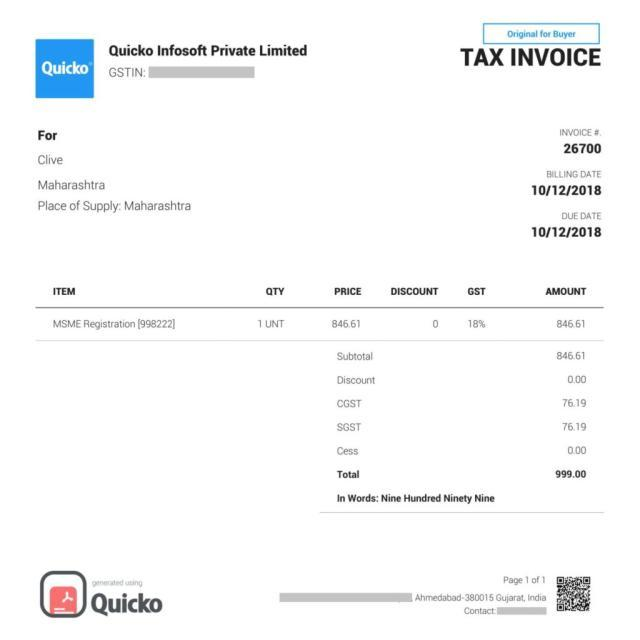ROI: (318, 348, 601, 502), (34, 282, 616, 342), (33, 40, 315, 100), (35, 128, 195, 215), (414, 566, 615, 623), (525, 126, 615, 239), (442, 19, 606, 69), (89, 588, 168, 621)
